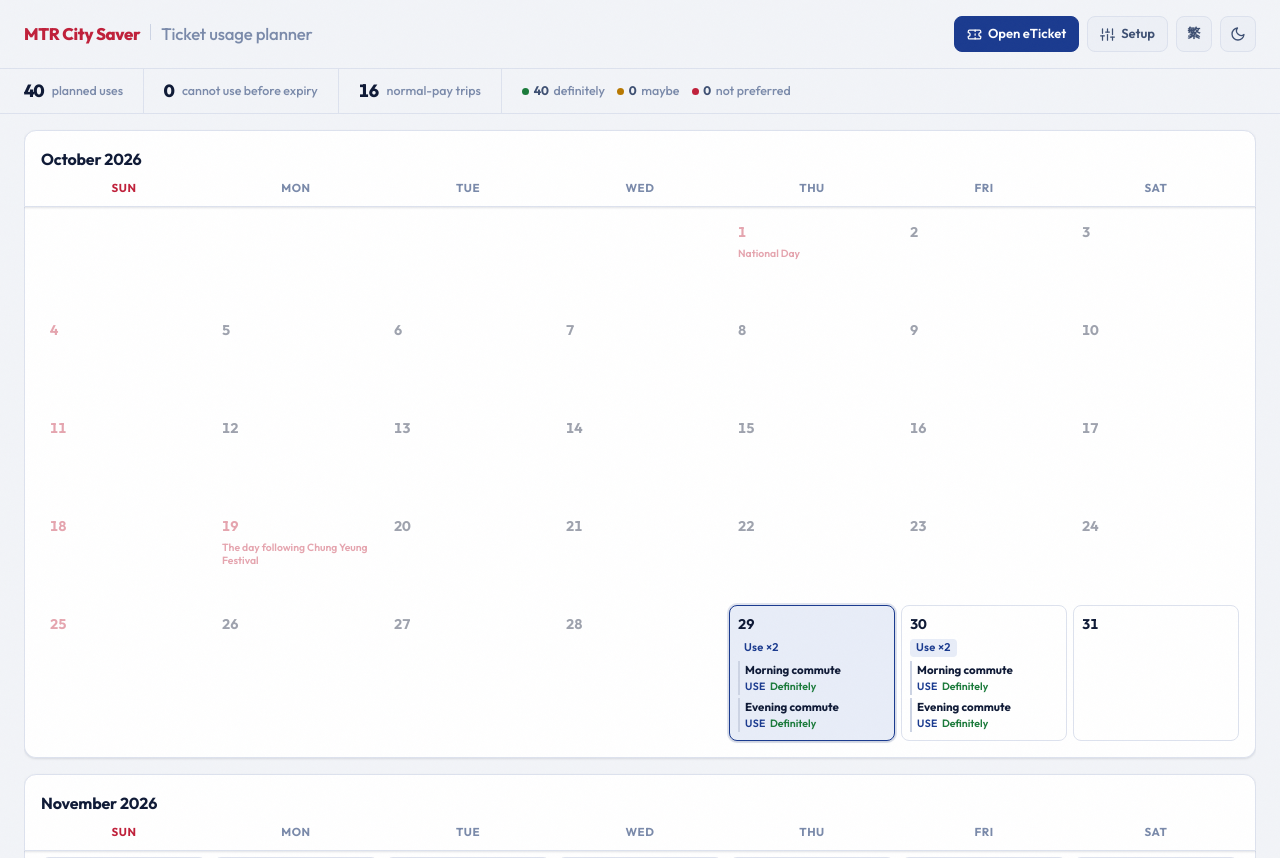
Test: renders the planner shell
This screenshot has width=1280, height=858.
expect the heading "Ticket usage planner" is shown: met, box [161,24,313,44]
expect the text "planned uses" is shown: met, box [52,82,123,100]
// Setup panel is behind a modal — open it first
Step 1. Click the button with aria-label "Open setup" → (1128, 34), box [1087,16,1168,52]
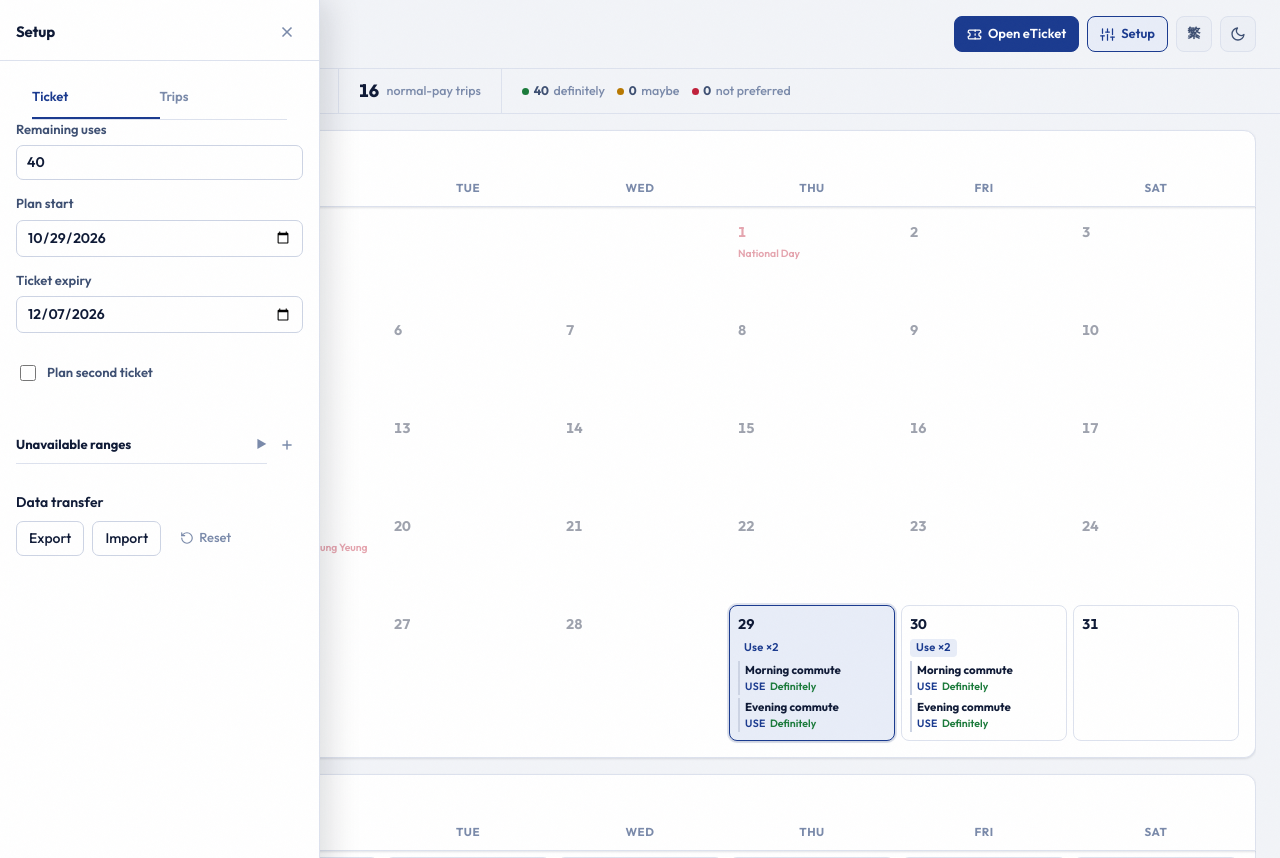
expect the number field labelled "Remaining uses" is shown: met, box [16,145,303,180]
